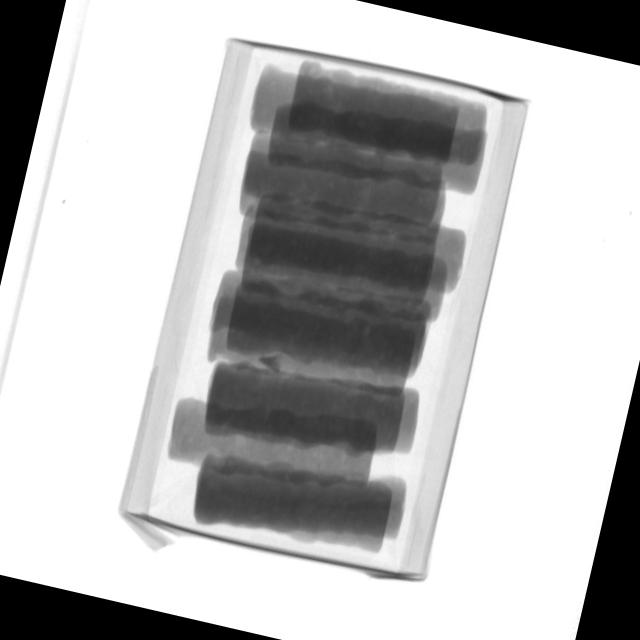ym: (257, 351, 286, 375)
